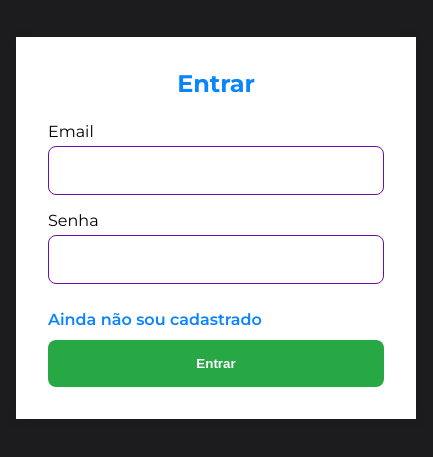
it: LoginPage Component › deve mostrar erro de validação ao enviar vazio
Step 1. Click the button "Entrar" → (216, 364), box [48,340,384,387]
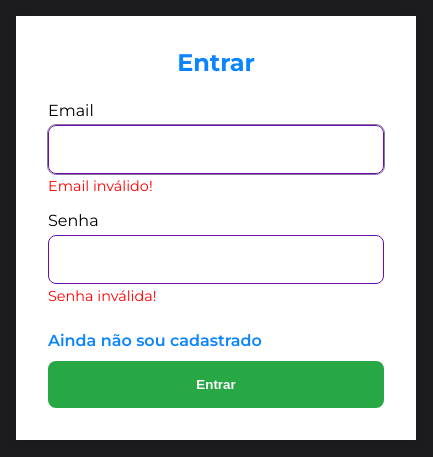
Expected: the text "Email inválido!" is shown, [48,177,153,195]
Expected: the text "Senha inválida!" is shown, [48,287,156,305]
